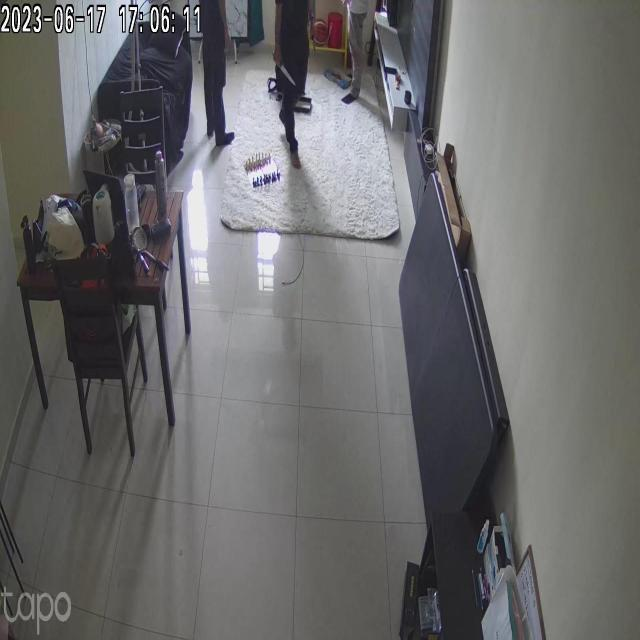Knife: (268, 52, 302, 96)
